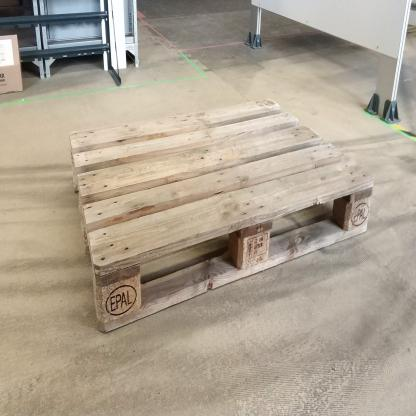BoxFace: (65, 88, 380, 345)
